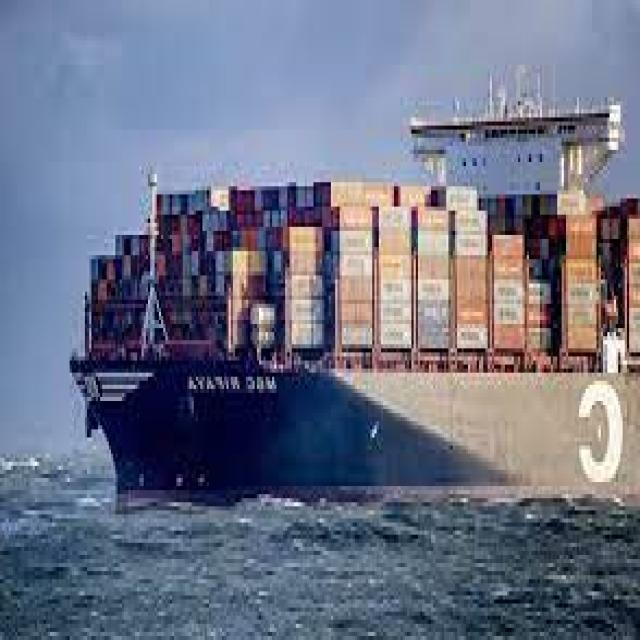cargoship: (76, 52, 640, 514)
